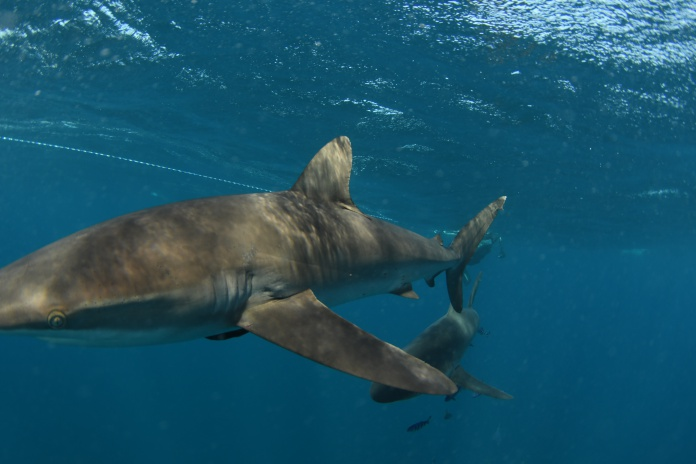Sedoso: (5, 122, 522, 399)
